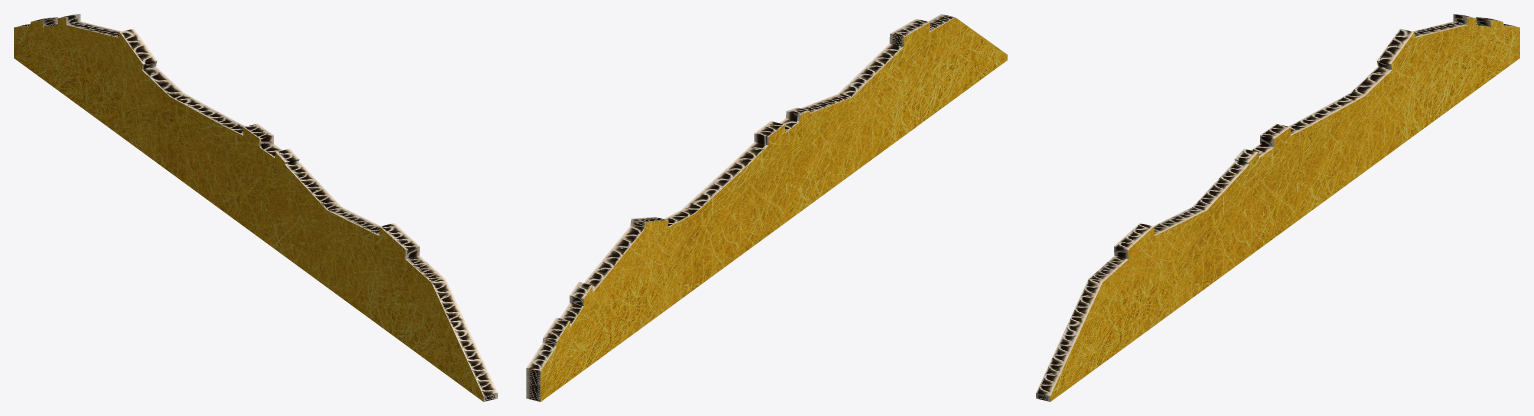
File: BackGroundMesh_Small.FBX
The picture shows the model from 3 angles, left to right: view 1: azimuth 30°, elevation 25°; view 2: azimuth 150°, elevation 25°; view 3: azimuth 330°, elevation 25°; orthographic projection.
Parts seen in each view (by area): view 1: LanTile001; view 2: LanTile001; view 3: LanTile001.
Part boxes in pixels (box(x1,y1,x2,y2)): LanTile001: box(14, 14, 497, 401); LanTile001: box(526, 14, 1007, 401); LanTile001: box(1036, 14, 1519, 401).
Size of the model in its own units: 6.64 by 45.78 by 376.
